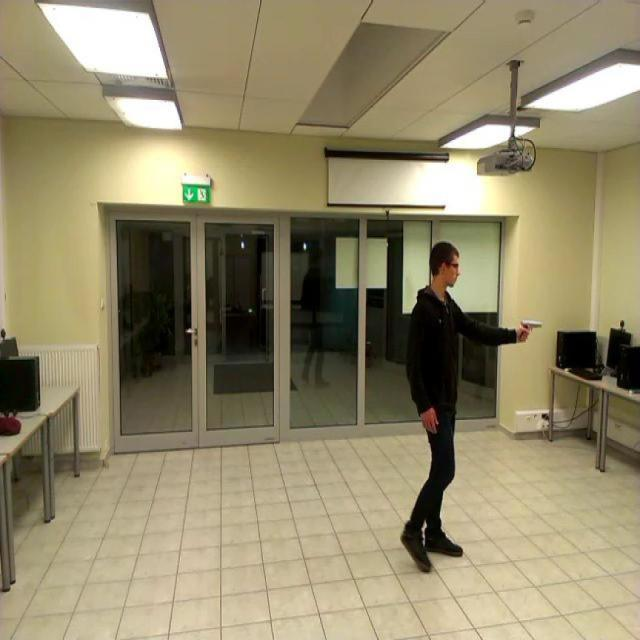pistol: (520, 318, 544, 341)
